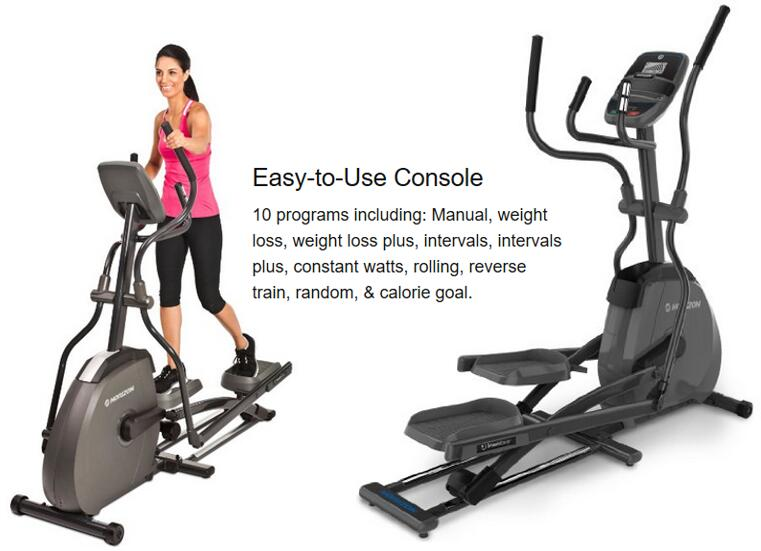gym_bike: (346, 7, 741, 536), (1, 120, 283, 529)
